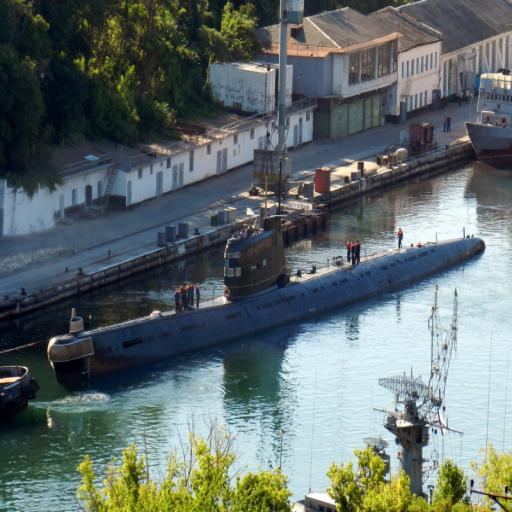submarine: (63, 192, 487, 395)
